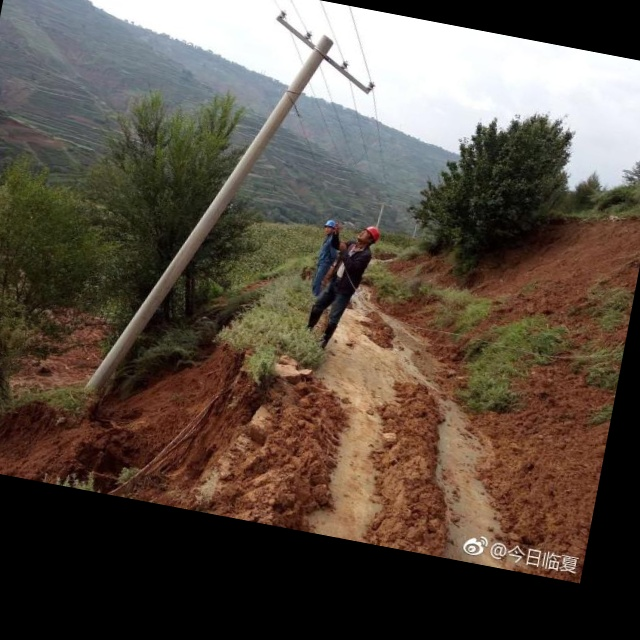Con_Casco: (355, 224, 379, 250)
